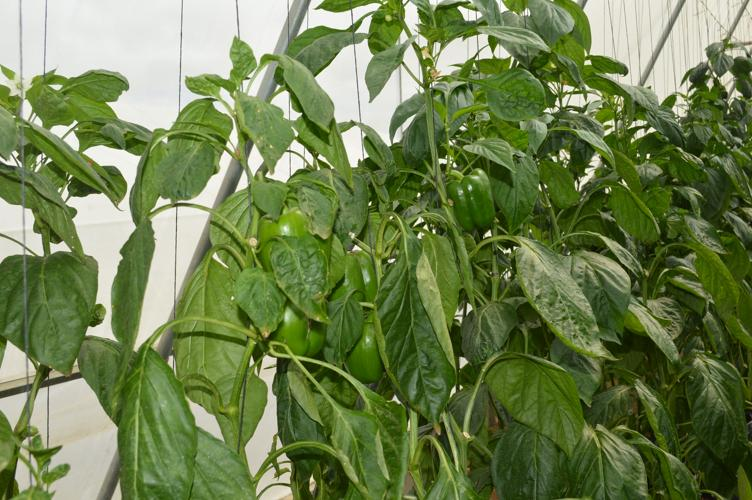BellPepper: (442, 165, 494, 232), (258, 213, 306, 277), (276, 301, 324, 363), (331, 251, 376, 315), (349, 315, 384, 388)
